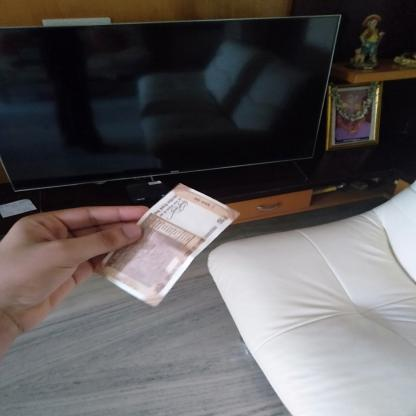New10Back: (105, 187, 233, 292)
